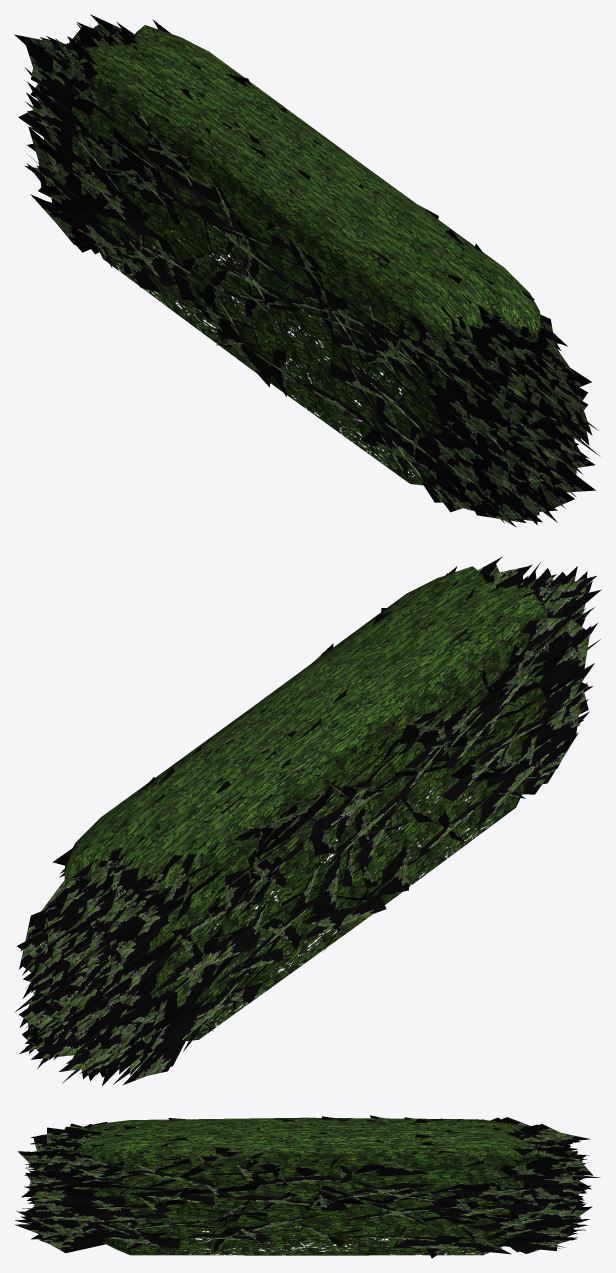
The model's file is hedge.glb.
The picture shows the model from 3 angles, top to bottom: view 1: azimuth 30°, elevation 25°; view 2: azimuth 150°, elevation 25°; view 3: azimuth 270°, elevation 25°; orthographic projection. The views are drawn at different scales.
Parts seen in each view (by area): view 1: prim0.001; view 2: prim0.001; view 3: prim0.001.
Boxes of the visible parts, x1,y1,x2,y2 form: prim0.001: [14, 14, 599, 527]; prim0.001: [14, 556, 601, 1085]; prim0.001: [15, 1115, 600, 1258].
Bounding box in the file's own units: 1.72 × 2.88 × 12.26.
2 materials, 2 textured.
